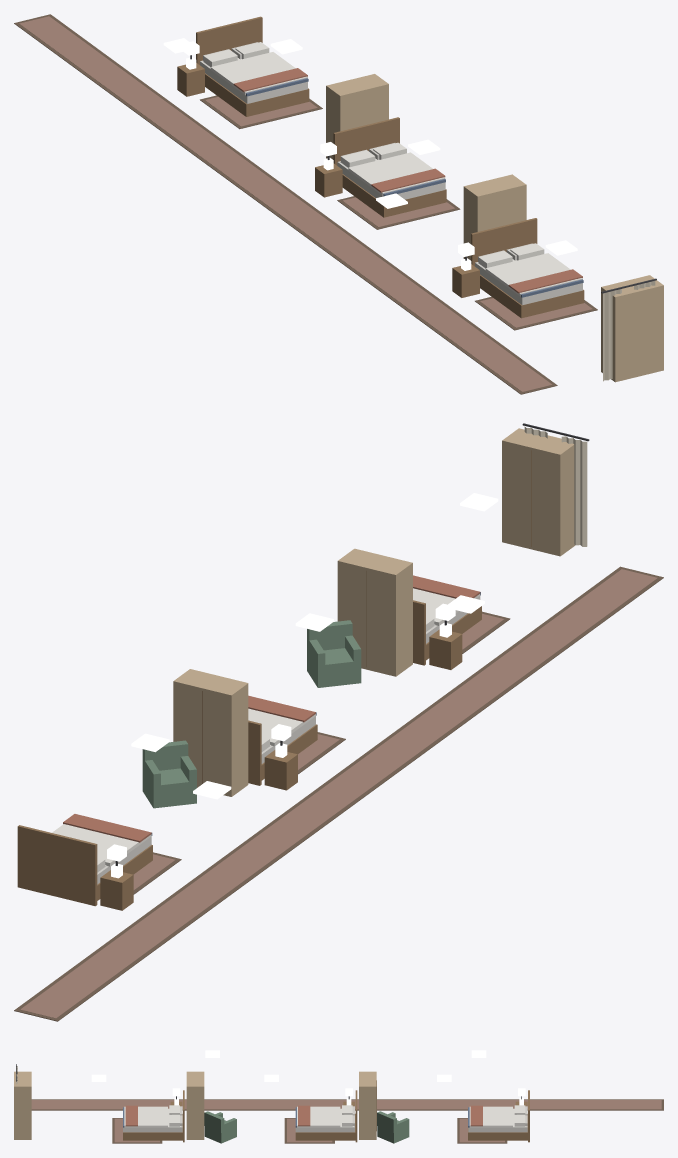
The model's file is fine-s2.glb.
The picture shows the model from 3 angles, top to bottom: view 1: azimuth 30°, elevation 25°; view 2: azimuth 150°, elevation 25°; view 3: azimuth 270°, elevation 25°; orthographic projection. The views are drawn at different scales.
Parts seen in each view (by area): view 1: soft-s2, dresser.005, bed-frame.005, bed-frame.003, bed-frame.004, dresser.004, dresser.003, nightstand.004, nightstand.003, nightstand.005; view 2: soft-s2, dresser.005, dresser.004, dresser.003, bed-frame.003, lounge-chair.003, lounge-chair.002, bed-frame.004, bed-frame.005, nightstand.004, nightstand.005, nightstand.003; view 3: soft-s2, dresser.004, dresser.003, dresser.005, bed-frame.004, bed-frame.003, bed-frame.005, lounge-chair.003, lounge-chair.002.
Boxes of the visible parts, left/top/right/bottom form: soft-s2: left=14, top=14, right=656, bottom=394; dresser.005: left=601, top=275, right=663, bottom=382; bed-frame.005: left=471, top=218, right=584, bottom=318; bed-frame.003: left=196, top=16, right=309, bottom=116; bed-frame.004: left=333, top=117, right=446, bottom=217; dresser.004: left=463, top=174, right=526, bottom=260; dresser.003: left=326, top=74, right=388, bottom=159; nightstand.004: left=315, top=158, right=342, bottom=197; nightstand.003: left=177, top=57, right=204, bottom=96; nightstand.005: left=452, top=258, right=479, bottom=297; soft-s2: left=14, top=423, right=663, bottom=1021; dresser.005: left=502, top=428, right=575, bottom=556; dresser.004: left=337, top=548, right=412, bottom=676; dresser.003: left=173, top=669, right=248, bottom=796; bed-frame.003: left=17, top=825, right=152, bottom=906; lounge-chair.003: left=307, top=620, right=361, bottom=687; lounge-chair.002: left=142, top=740, right=196, bottom=808; bed-frame.004: left=248, top=712, right=317, bottom=785; bed-frame.005: left=413, top=592, right=481, bottom=665; nightstand.004: left=264, top=743, right=297, bottom=790; nightstand.005: left=429, top=622, right=462, bottom=669; nightstand.003: left=100, top=863, right=133, bottom=910; soft-s2: left=16, top=1064, right=663, bottom=1143; dresser.004: left=186, top=1071, right=204, bottom=1139; dresser.003: left=359, top=1071, right=376, bottom=1139; dresser.005: left=14, top=1071, right=31, bottom=1139; bed-frame.004: left=295, top=1090, right=357, bottom=1142; bed-frame.003: left=468, top=1090, right=529, bottom=1142; bed-frame.005: left=123, top=1090, right=184, bottom=1142; lounge-chair.003: left=204, top=1111, right=236, bottom=1143; lounge-chair.002: left=377, top=1111, right=409, bottom=1143.
Bounding box in the file's own units: 3.55 × 2.16 × 22.06.
